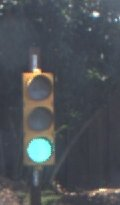Green: (20, 66, 58, 169)
